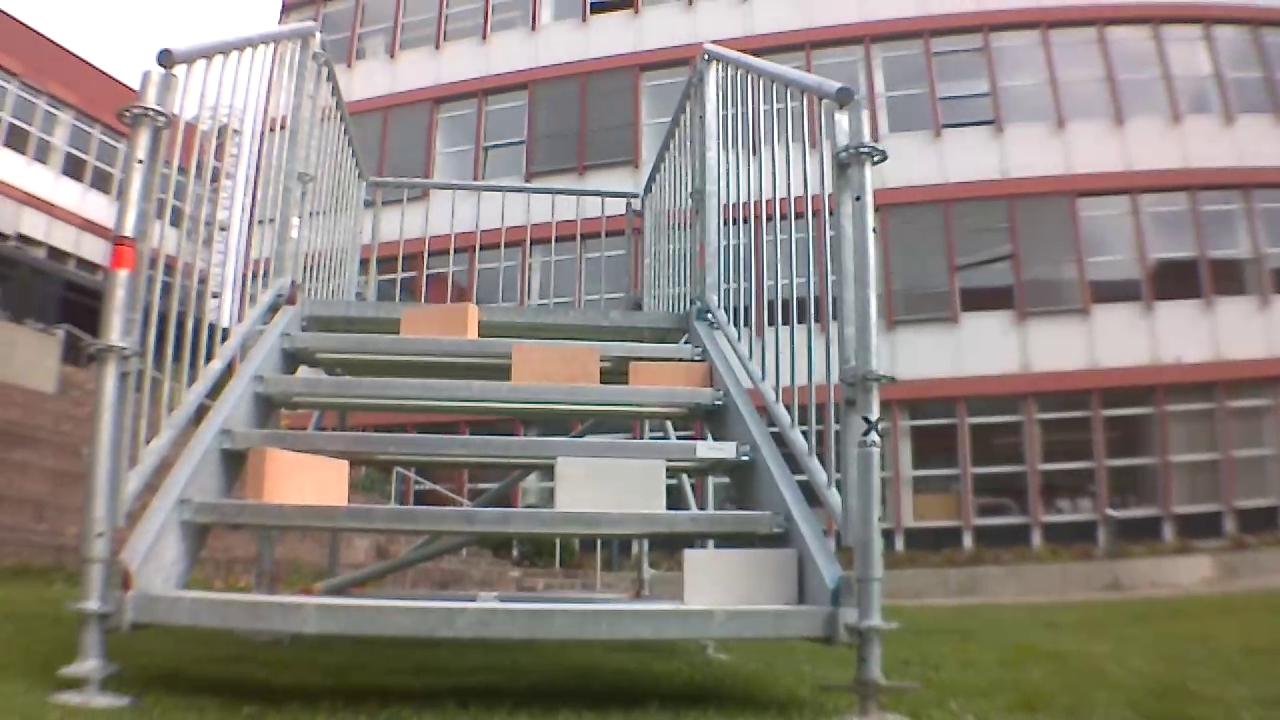brick: (247, 446, 347, 507), (685, 550, 797, 603), (556, 456, 663, 511), (512, 343, 598, 383), (401, 303, 479, 338), (630, 361, 708, 388)
edge: (133, 593, 829, 637), (177, 500, 786, 532), (221, 428, 750, 459), (250, 373, 723, 403), (303, 297, 685, 325), (277, 332, 701, 357)
stairs: (49, 21, 902, 715)
steps: (125, 292, 835, 648)
